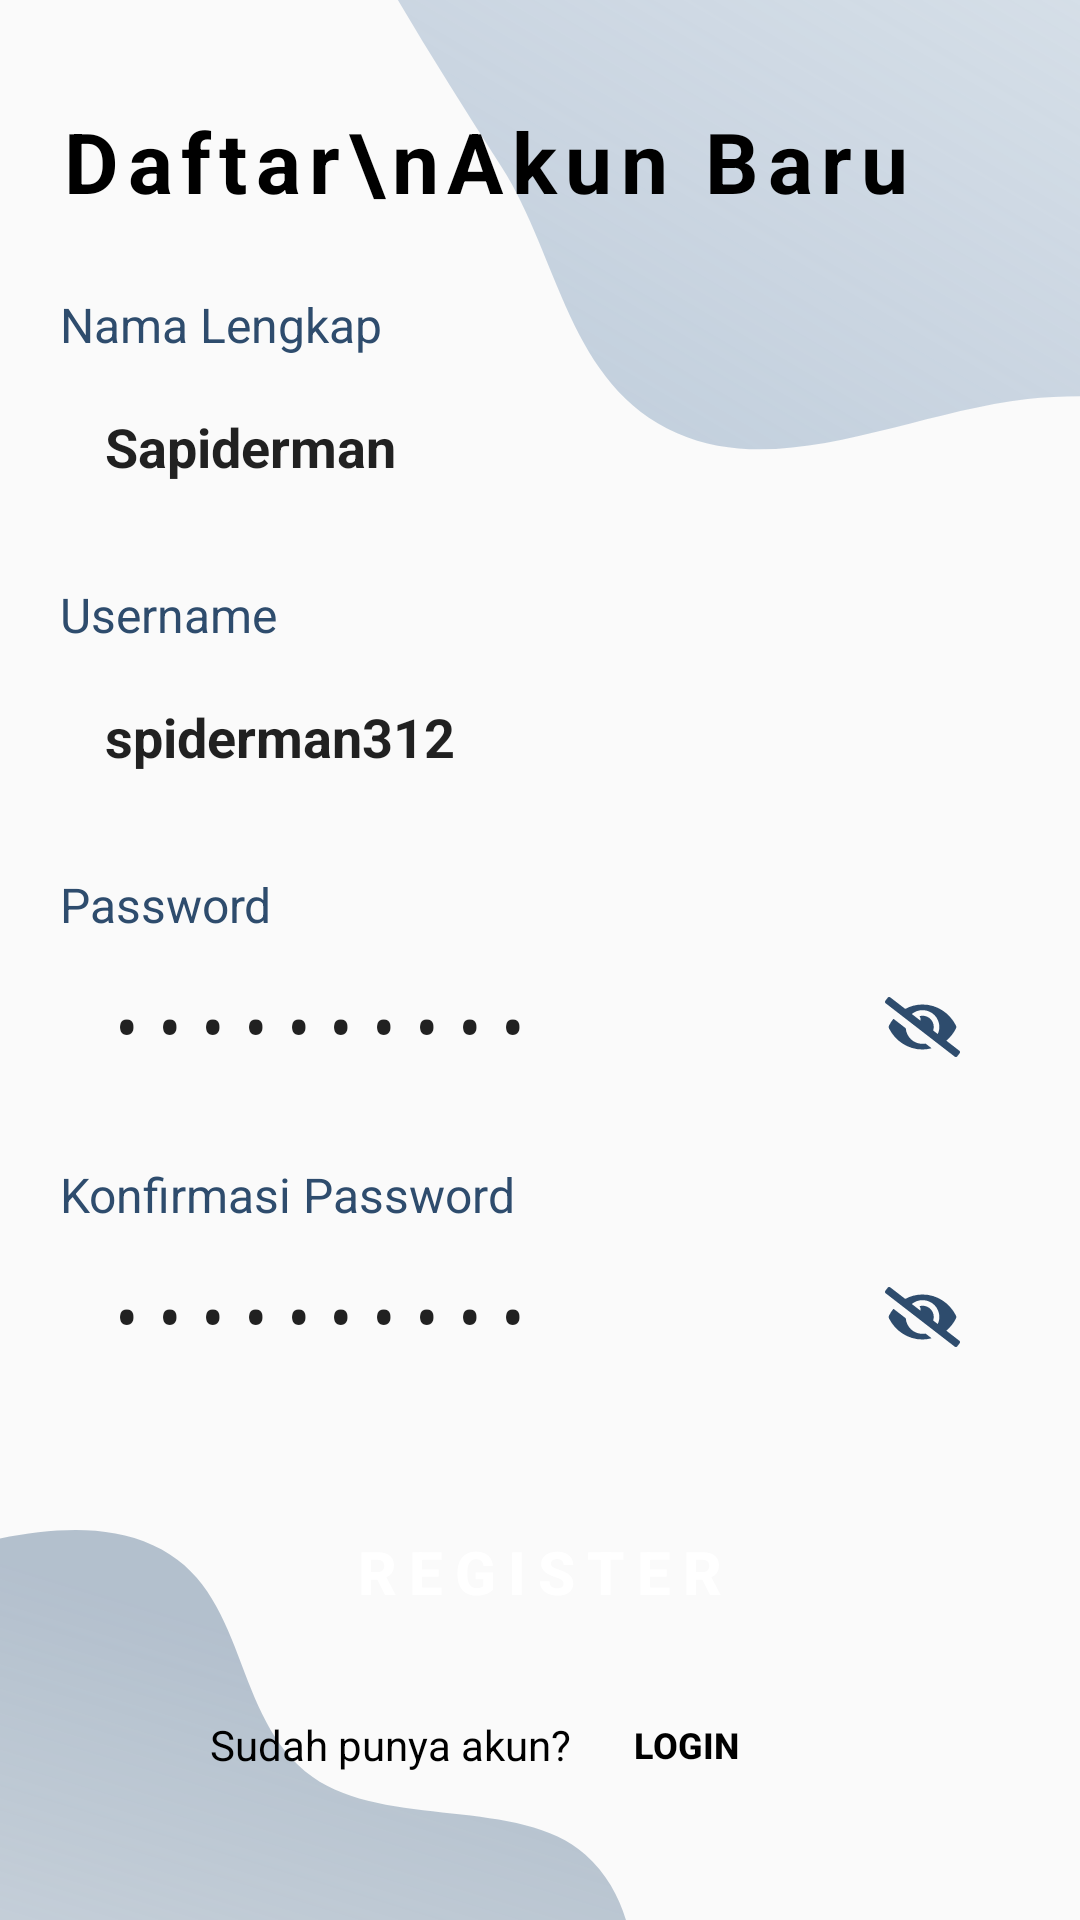

Named icons in this screenshot (1080w x 1920h) and their bounding boxes, (x1, y1, x2, y2):
eyeclose: (885, 997, 960, 1057), (885, 1287, 960, 1347)
